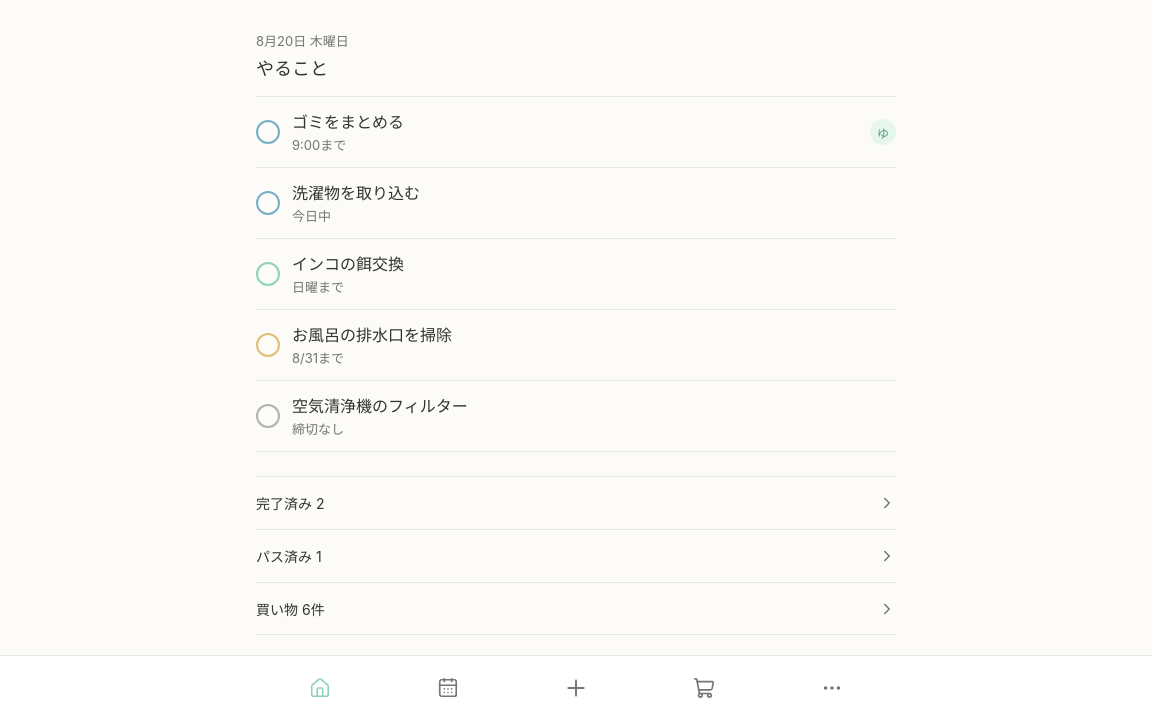
Test case: HomePage › keeps the final completion state available with reduced motion
Click the button with aria-label "ゴミをまとめるを完了". click: (348, 122)
box: [256,97,896,167]
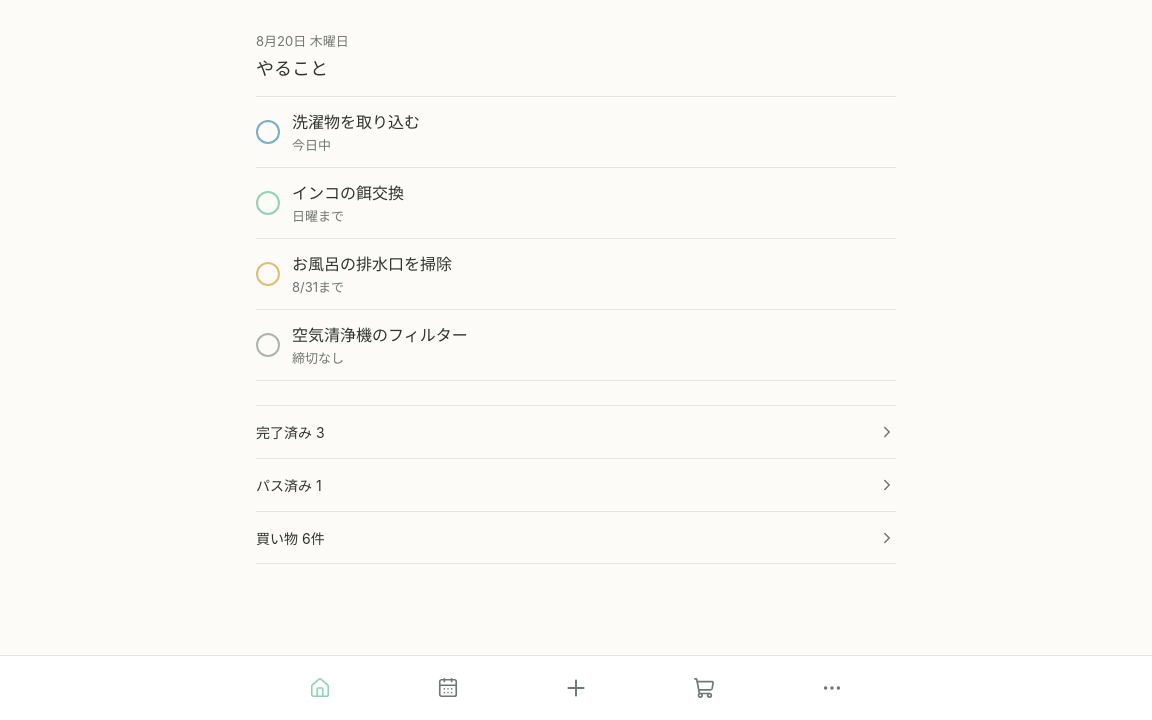
Check: the button "ゴミをまとめる" is gone
Check: the text "完了済み 3" is shown, box [256,422,325,442]
